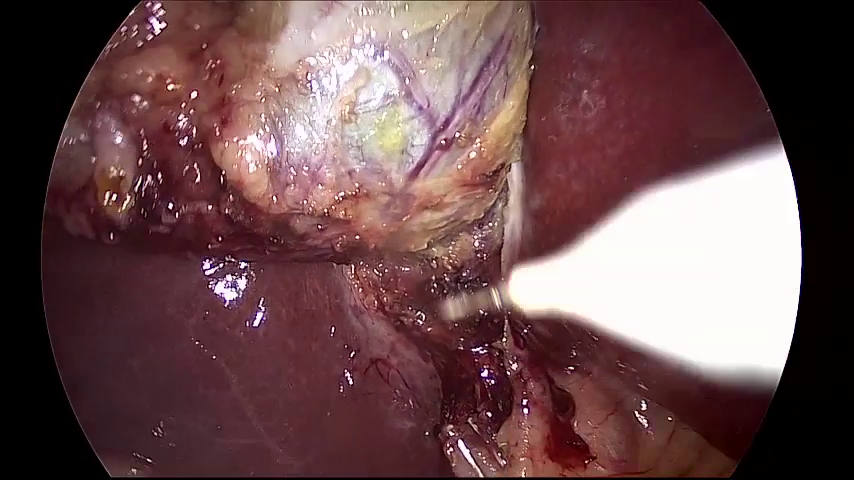lhook: (442, 136, 801, 386)
